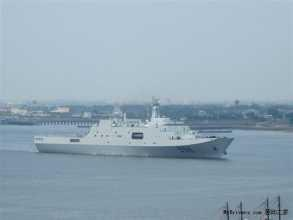warship: (27, 107, 240, 158)
